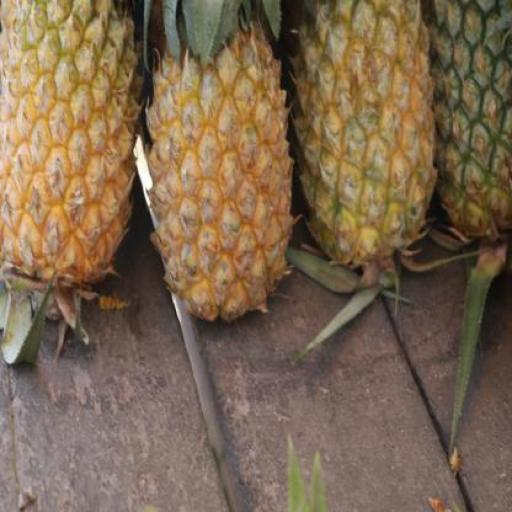------------------------------: (294, 0, 438, 270)
Pineapple - v8 v1: (150, 27, 300, 329), (2, 1, 142, 297)
